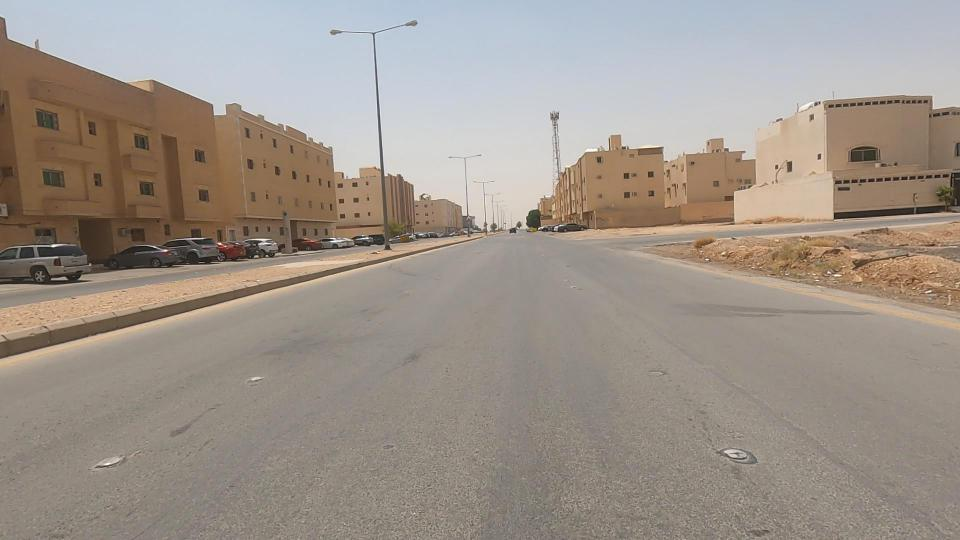SAND_ON_ROAD: (792, 227, 960, 318)
